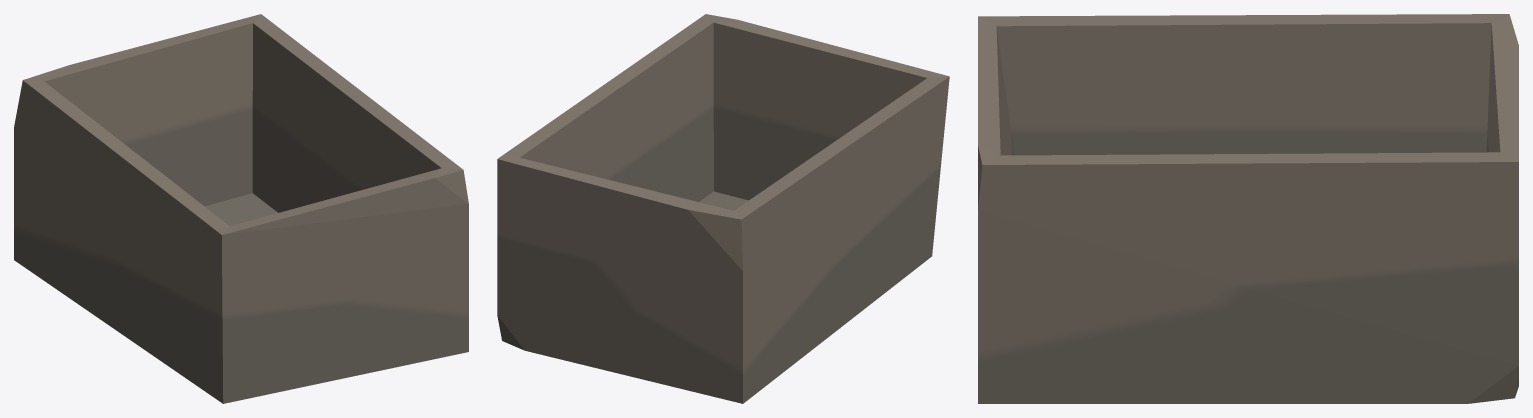
The model's file is SM_Prop_Cardboard_Box_04.glb.
3 renders of one model, left to right at view 1: azimuth 30°, elevation 25°; view 2: azimuth 150°, elevation 25°; view 3: azimuth 270°, elevation 25°, orthographic. The views are drawn at different scales.
Parts seen in each view (by area): view 1: SM_Prop_Cardboard_Box_04; view 2: SM_Prop_Cardboard_Box_04; view 3: SM_Prop_Cardboard_Box_04.
Part boxes in pixels (x1,y1,x2,y2): SM_Prop_Cardboard_Box_04: (14, 14, 468, 403); SM_Prop_Cardboard_Box_04: (497, 14, 949, 403); SM_Prop_Cardboard_Box_04: (978, 14, 1518, 403).
Size of the model in its own units: 0.5 by 0.3596 by 0.7282.
Materials: 1 (1 with a texture image).
